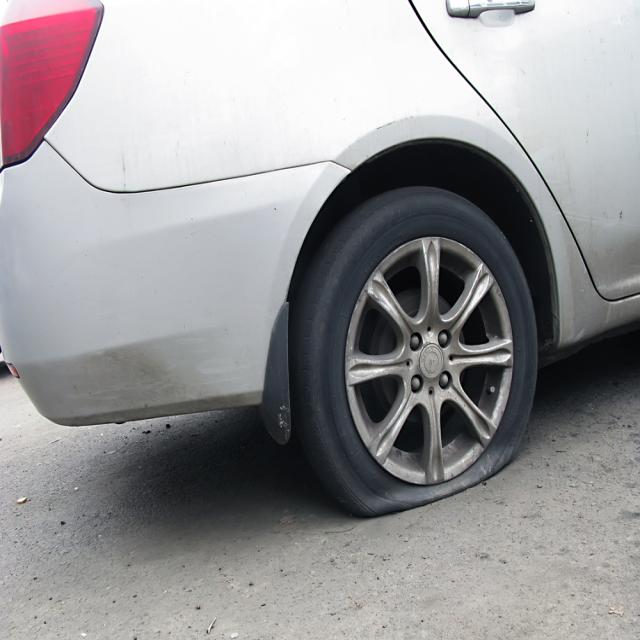tire flat: (296, 188, 539, 521)
